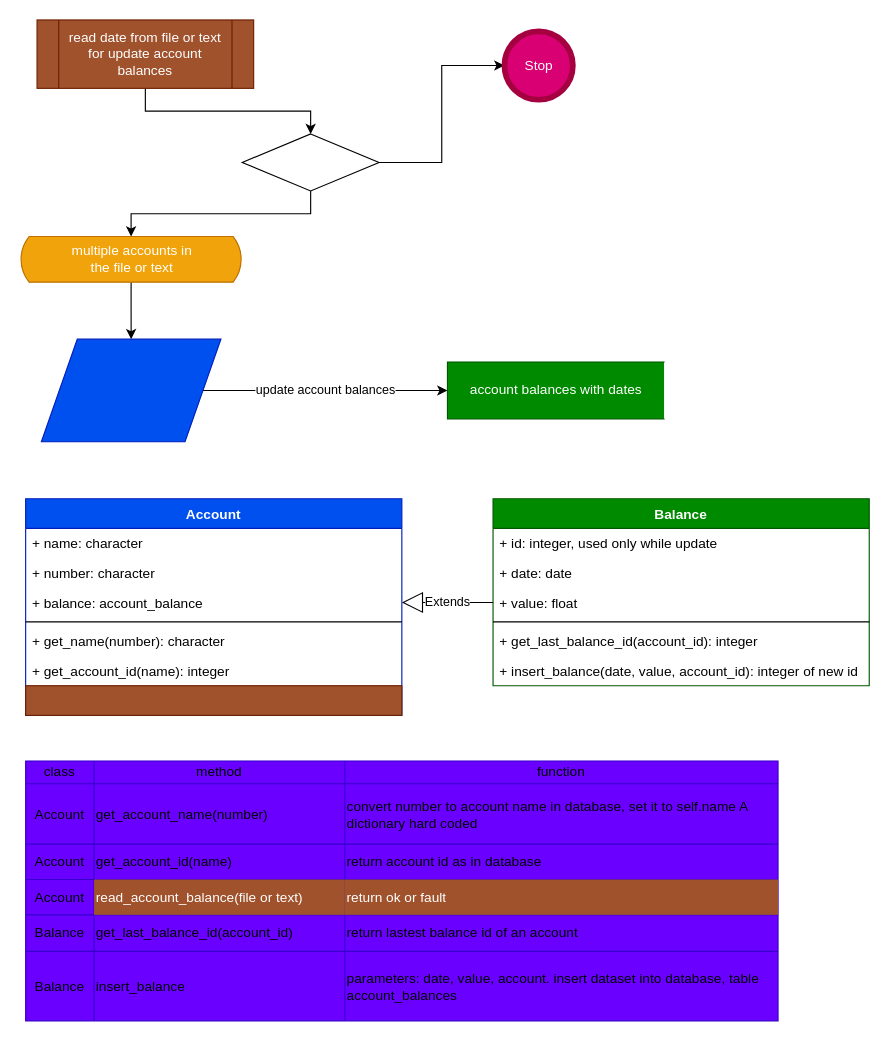
Image size: 889x1041. Some labels were removed from this diagram. The centre of each missing label's shape, as x and y in pixels:
+ read_account_balance(file or text): integer 0 ok, otherwise failed: [213,700]
account_name account_id balance date: [130,390]
if list end: [310,162]
